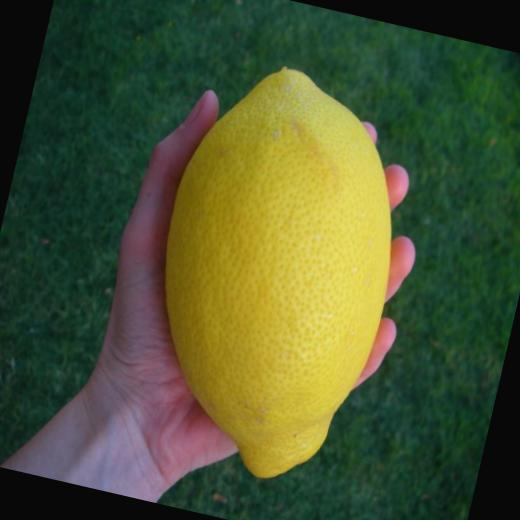Grape: (124, 50, 430, 498)
